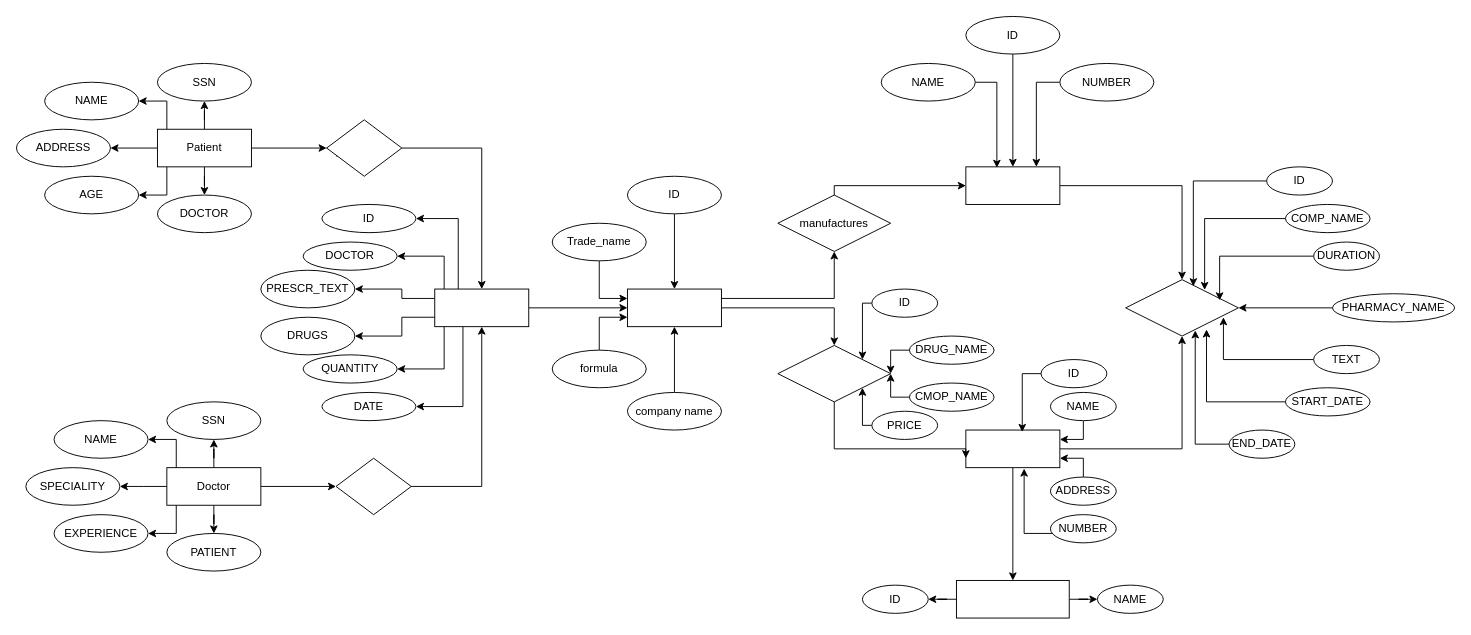
Image size: 1471x635. Some labels were removed from this diagram. Here are the shapes that lost their labels. From the top down, the centre of each, then its label:
At point (364, 147): "has".
At point (1012, 185): "Pharmaceutical company".
At point (481, 307): "Prescription".
At point (674, 307): "DRUG".
At point (1181, 307): "CONTRACT".
At point (834, 373): "SELL".
At point (1012, 448): "PHARMACY".
At point (373, 486): "Prescribes".
At point (1012, 599): "EMPLOYEE".
